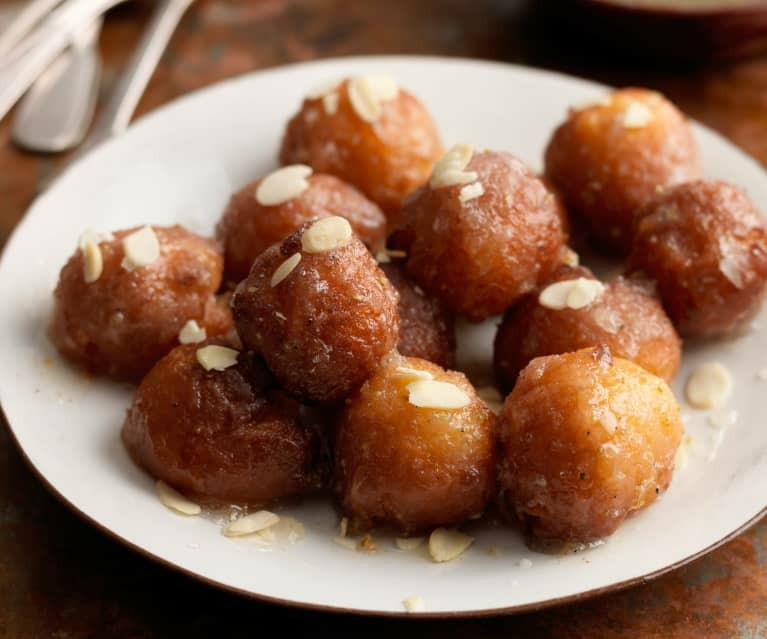GulabJamun: (498, 345, 680, 541), (120, 341, 314, 511), (338, 347, 500, 531), (411, 137, 564, 323), (51, 226, 221, 377), (244, 222, 392, 393), (543, 82, 702, 213), (286, 67, 440, 202), (636, 179, 767, 334), (495, 277, 682, 382), (222, 160, 389, 272)
